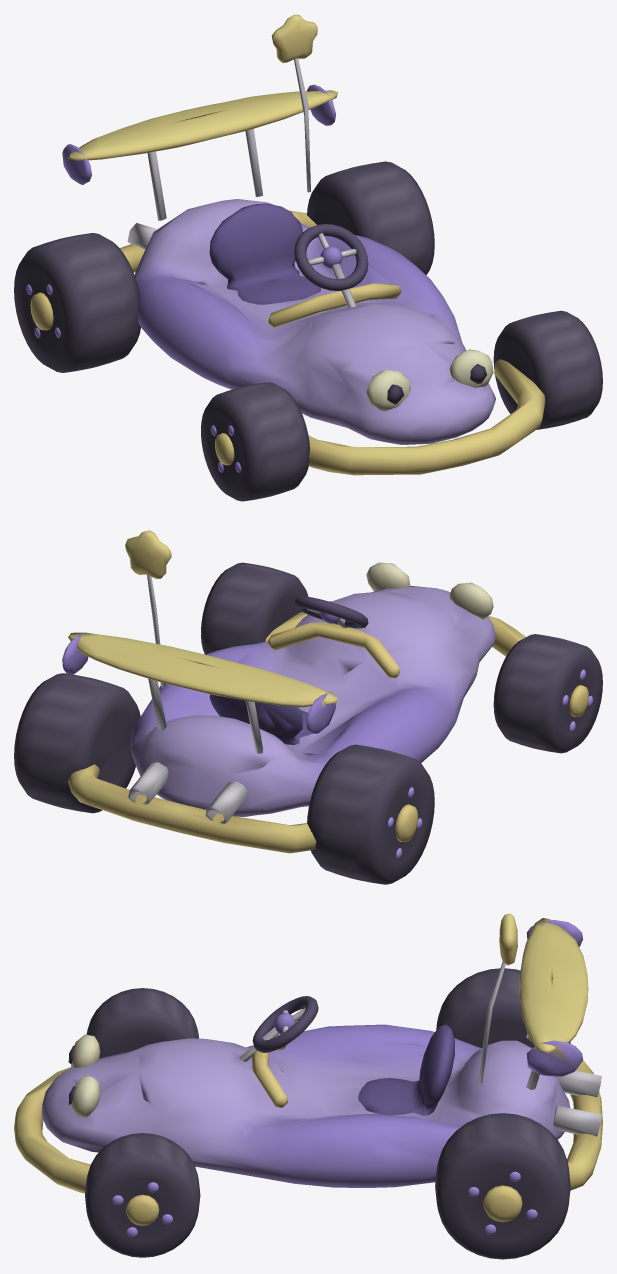
Rendered from veh_kart_star.glb.
The picture shows the model from 3 angles, top to bottom: view 1: azimuth 30°, elevation 25°; view 2: azimuth 150°, elevation 25°; view 3: azimuth 270°, elevation 25°; orthographic projection.
Visible parts, largest first — view 1: SM_veh_kart_star_body_gloss, SM_veh_kart_star_wheel_rr, SM_veh_kart_star_wheel_fr, SM_veh_kart_star_wheel_fl, SM_veh_kart_star_wheel_rl, SM_veh_kart_star_body, SM_veh_kart_star_steer, SM_veh_kart_star_wheel_rr_gloss, SM_veh_kart_star_steer_gloss; view 2: SM_veh_kart_star_body_gloss, SM_veh_kart_star_wheel_rr, SM_veh_kart_star_wheel_rl, SM_veh_kart_star_wheel_fr, SM_veh_kart_star_wheel_fl, SM_veh_kart_star_body, SM_veh_kart_star_steer, SM_veh_kart_star_wheel_rr_gloss, SM_veh_kart_star_wheel_fr_gloss; view 3: SM_veh_kart_star_body_gloss, SM_veh_kart_star_wheel_rl, SM_veh_kart_star_wheel_fl, SM_veh_kart_star_wheel_fr, SM_veh_kart_star_wheel_rr, SM_veh_kart_star_body, SM_veh_kart_star_steer, SM_veh_kart_star_wheel_rl_gloss, SM_veh_kart_star_wheel_fl_gloss.
Part boxes in pixels (left/top/right/bottom): SM_veh_kart_star_body_gloss: left=62, top=14, right=545, bottom=475; SM_veh_kart_star_wheel_rr: left=14, top=233, right=140, bottom=372; SM_veh_kart_star_wheel_fr: left=201, top=382, right=309, bottom=501; SM_veh_kart_star_wheel_fl: left=493, top=310, right=602, bottom=429; SM_veh_kart_star_wheel_rl: left=307, top=161, right=434, bottom=275; SM_veh_kart_star_body: left=209, top=203, right=320, bottom=304; SM_veh_kart_star_steer: left=294, top=224, right=368, bottom=290; SM_veh_kart_star_wheel_rr_gloss: left=30, top=292, right=53, bottom=330; SM_veh_kart_star_steer_gloss: left=308, top=233, right=356, bottom=268; SM_veh_kart_star_body_gloss: left=62, top=530, right=525, bottom=853; SM_veh_kart_star_wheel_rr: left=307, top=744, right=434, bottom=884; SM_veh_kart_star_wheel_rl: left=14, top=673, right=140, bottom=813; SM_veh_kart_star_wheel_fr: left=493, top=634, right=602, bottom=753; SM_veh_kart_star_wheel_fl: left=201, top=562, right=308, bottom=654; SM_veh_kart_star_body: left=209, top=694, right=310, bottom=744; SM_veh_kart_star_steer: left=294, top=596, right=368, bottom=628; SM_veh_kart_star_wheel_rr_gloss: left=395, top=804, right=418, bottom=842; SM_veh_kart_star_wheel_fr_gloss: left=569, top=684, right=588, bottom=716; SM_veh_kart_star_body_gloss: left=14, top=913, right=602, bottom=1193; SM_veh_kart_star_wheel_rl: left=435, top=1113, right=570, bottom=1259; SM_veh_kart_star_wheel_fl: left=85, top=1133, right=200, bottom=1257; SM_veh_kart_star_wheel_fr: left=86, top=988, right=198, bottom=1058; SM_veh_kart_star_wheel_rr: left=436, top=968, right=570, bottom=1047; SM_veh_kart_star_body: left=358, top=1024, right=454, bottom=1115; SM_veh_kart_star_steer: left=252, top=996, right=318, bottom=1052; SM_veh_kart_star_wheel_rl_gloss: left=483, top=1185, right=522, bottom=1222; SM_veh_kart_star_wheel_fl_gloss: left=126, top=1194, right=159, bottom=1225.
Bounding box in the file's own units: 1.54 × 1.15 × 2.06.
